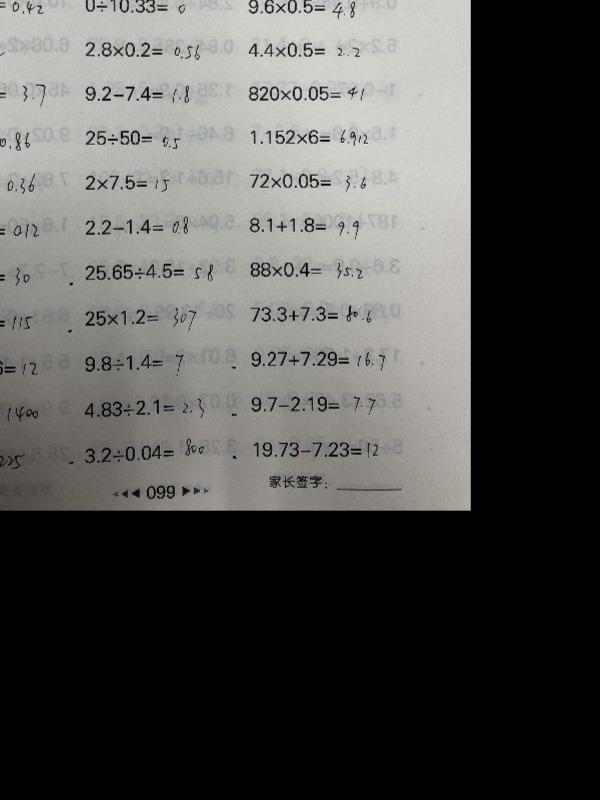equation: (246, 346, 391, 377), (247, 299, 382, 331), (78, 435, 211, 467), (253, 436, 382, 468), (246, 392, 381, 422), (82, 260, 221, 289), (82, 305, 199, 339), (245, 169, 372, 198), (245, 253, 373, 281), (82, 124, 205, 153), (82, 214, 193, 243), (245, 212, 362, 239), (81, 79, 193, 107), (81, 399, 211, 423), (82, 166, 178, 198), (82, 352, 186, 381), (246, 124, 370, 148), (81, 37, 203, 61), (244, 38, 363, 61), (244, 81, 367, 103), (243, 0, 358, 19), (80, 0, 189, 16), (0, 82, 52, 112), (0, 169, 44, 199), (0, 400, 44, 429), (0, 218, 43, 247), (0, 309, 36, 340), (0, 356, 42, 381), (0, 265, 37, 292), (0, 126, 33, 153), (0, 0, 46, 16), (0, 449, 26, 476), (0, 36, 9, 61)
